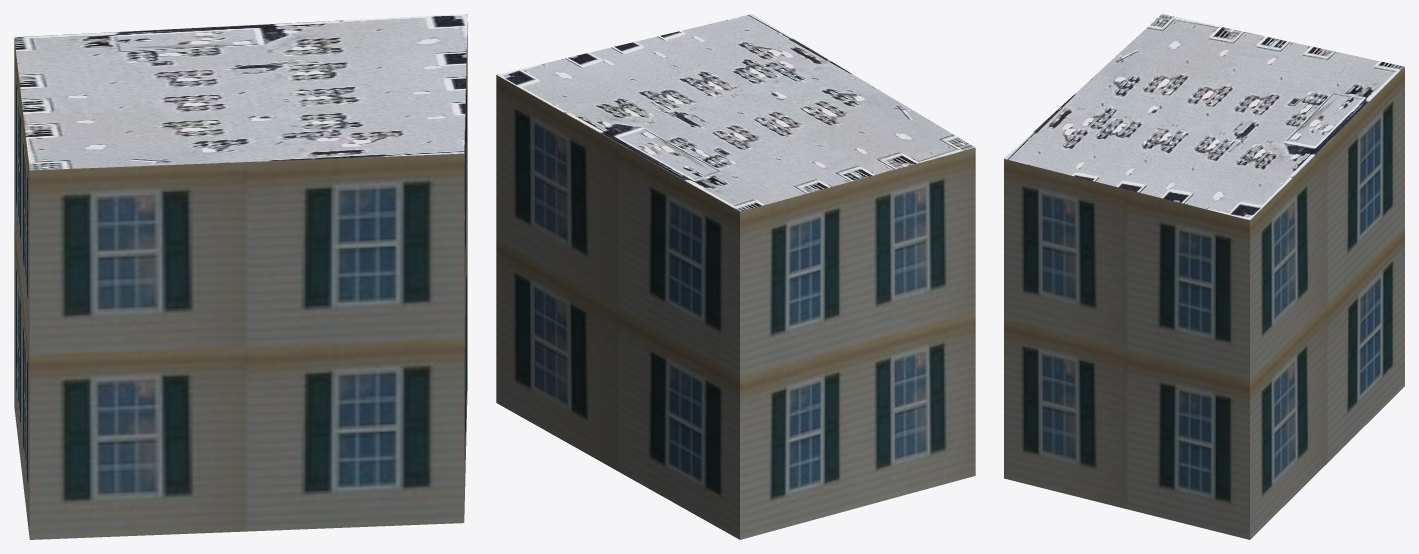
The model's file is ResTex__2598.fbx.
The picture shows the model from 3 angles, left to right: view 1: azimuth 30°, elevation 25°; view 2: azimuth 150°, elevation 25°; view 3: azimuth 270°, elevation 25°; orthographic projection. The views are drawn at different scales.
Parts seen in each view (by area): view 1: CityEngineMaterial_7_m, CityEngineMaterial_m; view 2: CityEngineMaterial_7_m, CityEngineMaterial_m; view 3: CityEngineMaterial_7_m, CityEngineMaterial_m.
Boxes of the visible parts, x1,y1,x2,y2 form: CityEngineMaterial_7_m: [14, 22, 467, 539]; CityEngineMaterial_m: [14, 14, 467, 170]; CityEngineMaterial_7_m: [496, 75, 975, 539]; CityEngineMaterial_m: [497, 14, 975, 211]; CityEngineMaterial_7_m: [1004, 67, 1404, 539]; CityEngineMaterial_m: [1004, 14, 1404, 220].
Size of the model in its own units: 8.31 by 6 by 6.82.
Materials: 2 (2 with a texture image).
